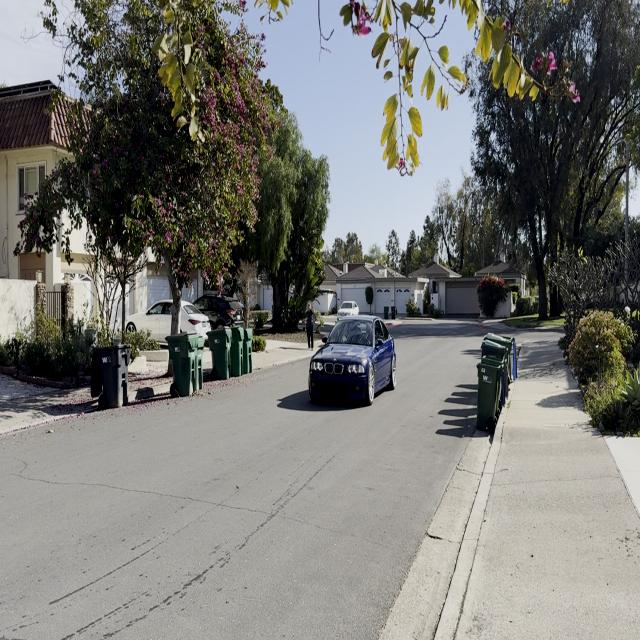Carbeetle: (294, 301, 408, 418)
